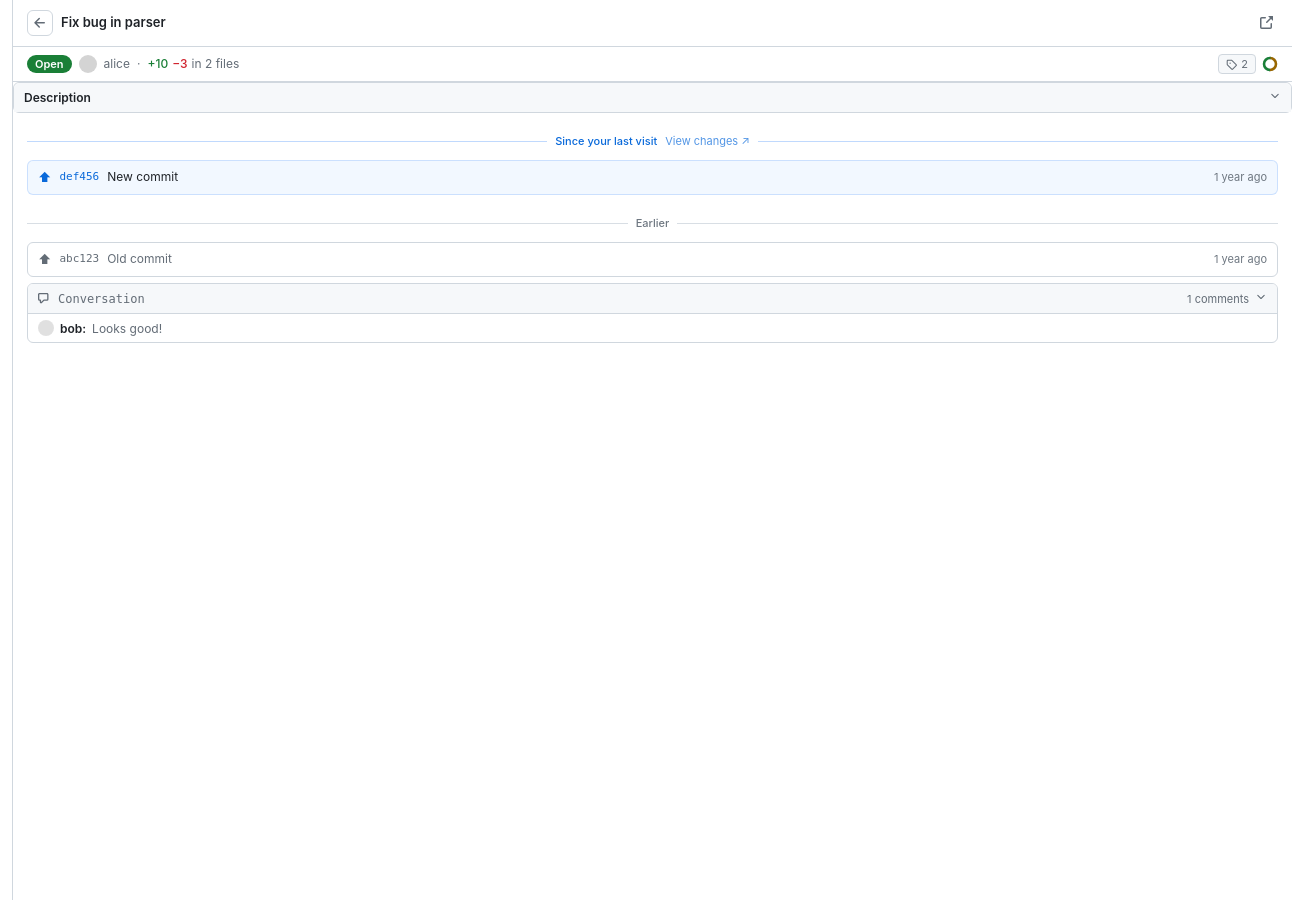
Scenario: PrDetail — labels › renders label chips in the status bar with correct color and name
Hover over the button with class "labels-wrapper" at (1237, 64), box [1218,54,1256,74]
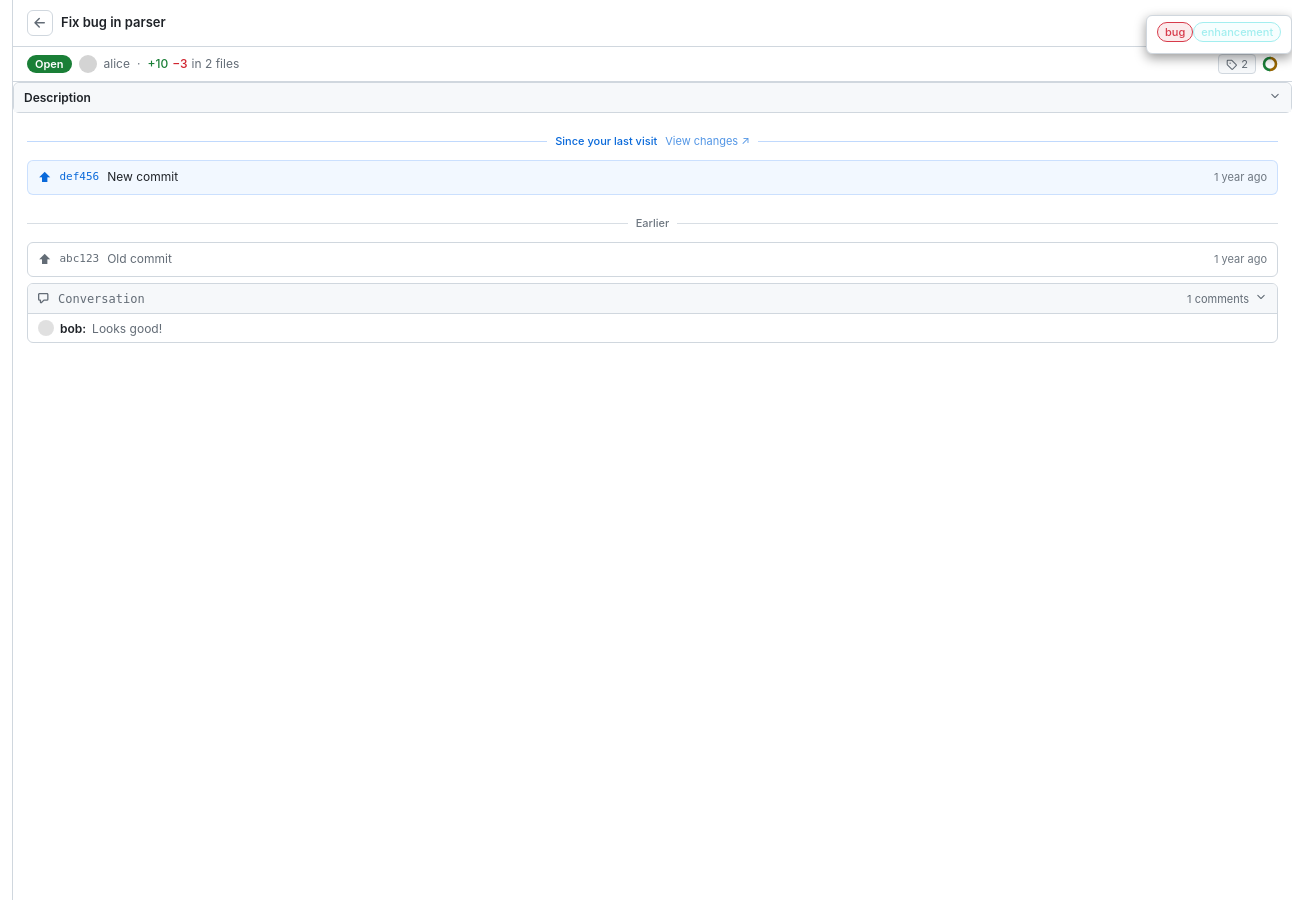
Expected: the number of elements with class "label-chip" is 2, [1157,22,1193,42]; [1193,22,1281,42]
Expected: the text with class "label-chip" reads "bug", [1165,25,1185,39]
Expected: the text with class "label-chip" reads "enhancement", [1201,25,1273,39]
